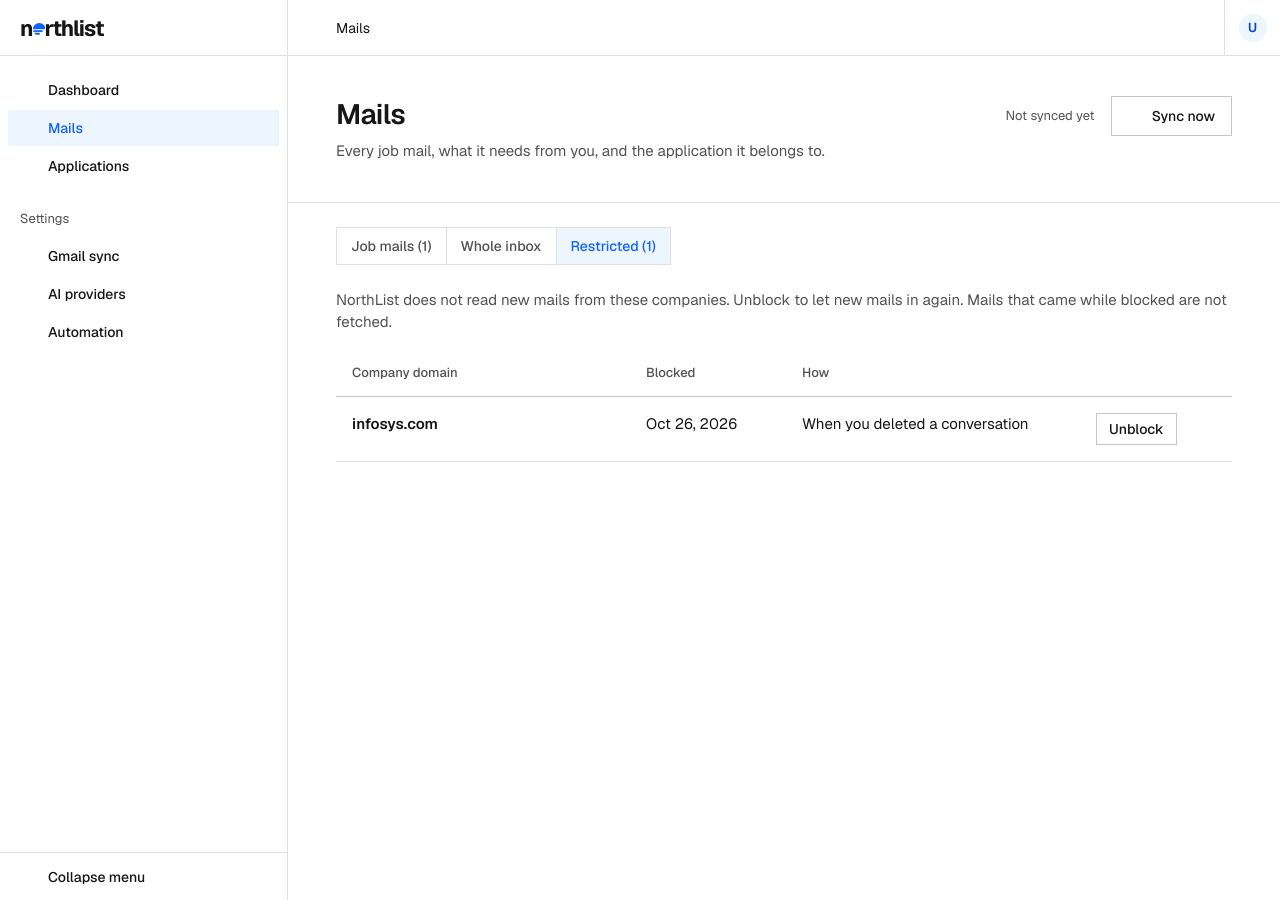
Test case: the Restricted tab › lists blocked companies, and unblocks one
Expected: the text "infosys.com" is shown, left=352, top=414, right=438, bottom=433
Expected: the text "When you deleted a conversation" is shown, left=802, top=414, right=1029, bottom=433
Click the button "Unblock" at (1136, 429), box left=1096, top=413, right=1177, bottom=445
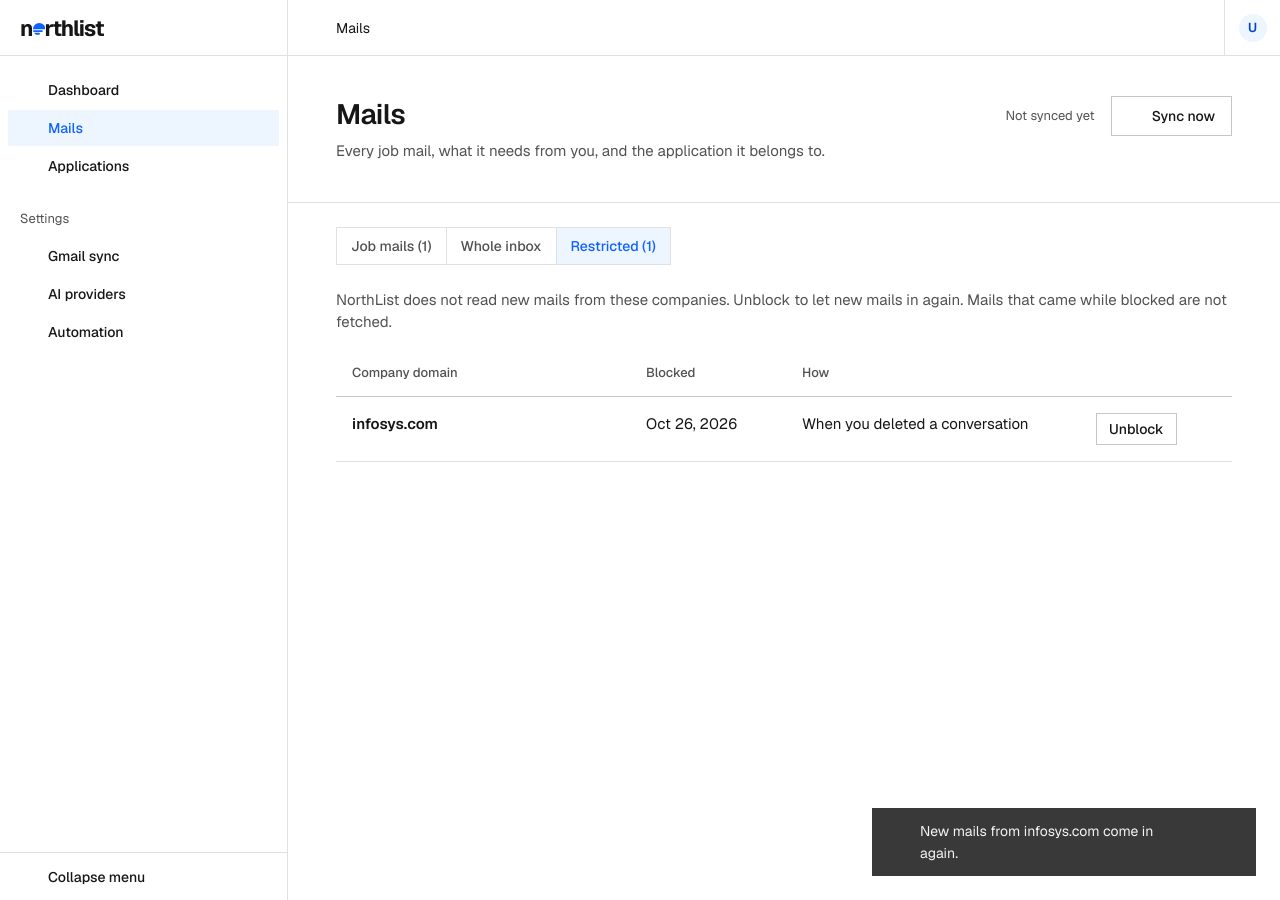
Now the heading "New mails from infosys.com come in again." is shown, box left=920, top=822, right=1154, bottom=862
